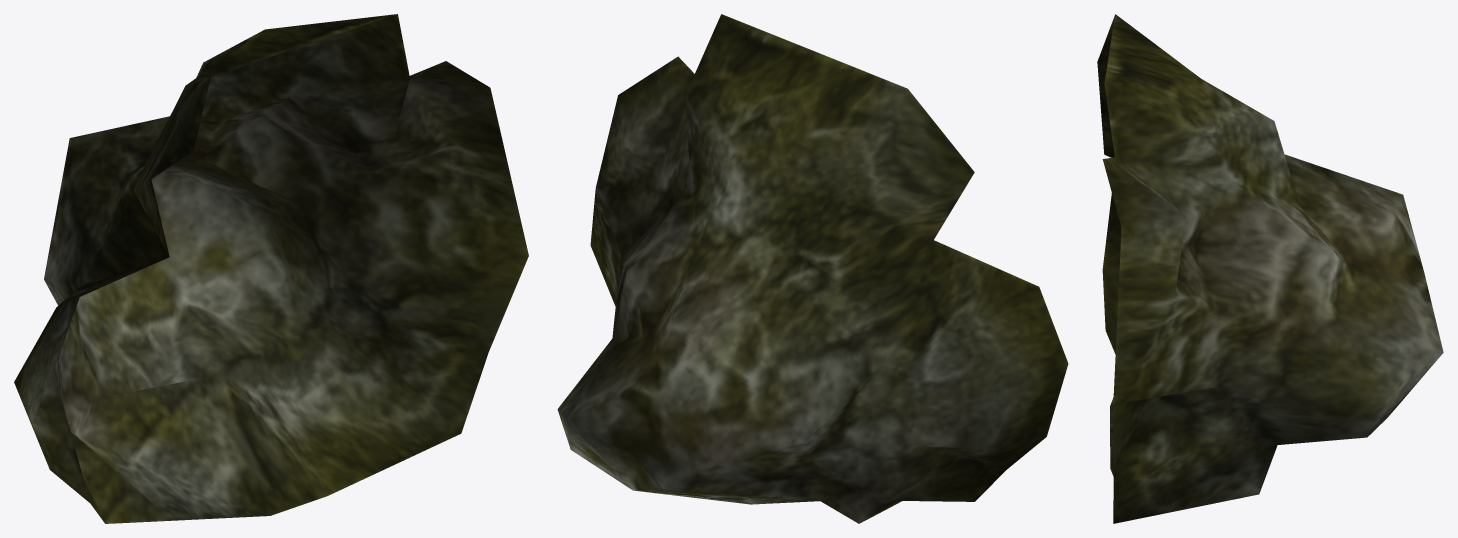
File: MEP_GroundRocks_01_c.fbx
3 renders of one model, left to right at view 1: azimuth 30°, elevation 25°; view 2: azimuth 150°, elevation 25°; view 3: azimuth 270°, elevation 25°, orthographic. The views are drawn at different scales.
Parts seen in each view (by area): view 1: MEP_GroundRock_01_c; view 2: MEP_GroundRock_01_c; view 3: MEP_GroundRock_01_c.
Part boxes in pixels (box(x1,y1,x2,y2)): MEP_GroundRock_01_c: box(14, 14, 528, 523); MEP_GroundRock_01_c: box(557, 14, 1068, 523); MEP_GroundRock_01_c: box(1097, 14, 1443, 523).
Bounding box in the file's own units: 2.35 × 2.07 × 1.47.
